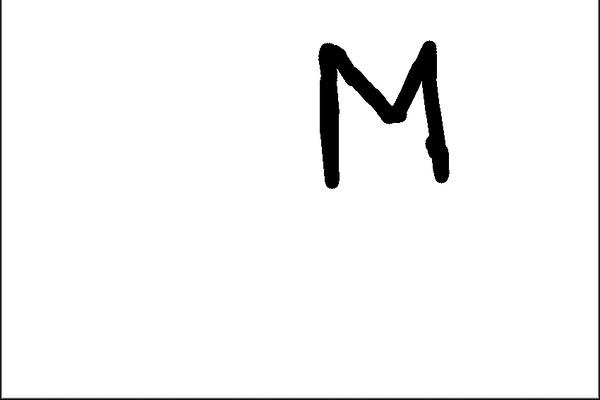M: (315, 37, 452, 189)
